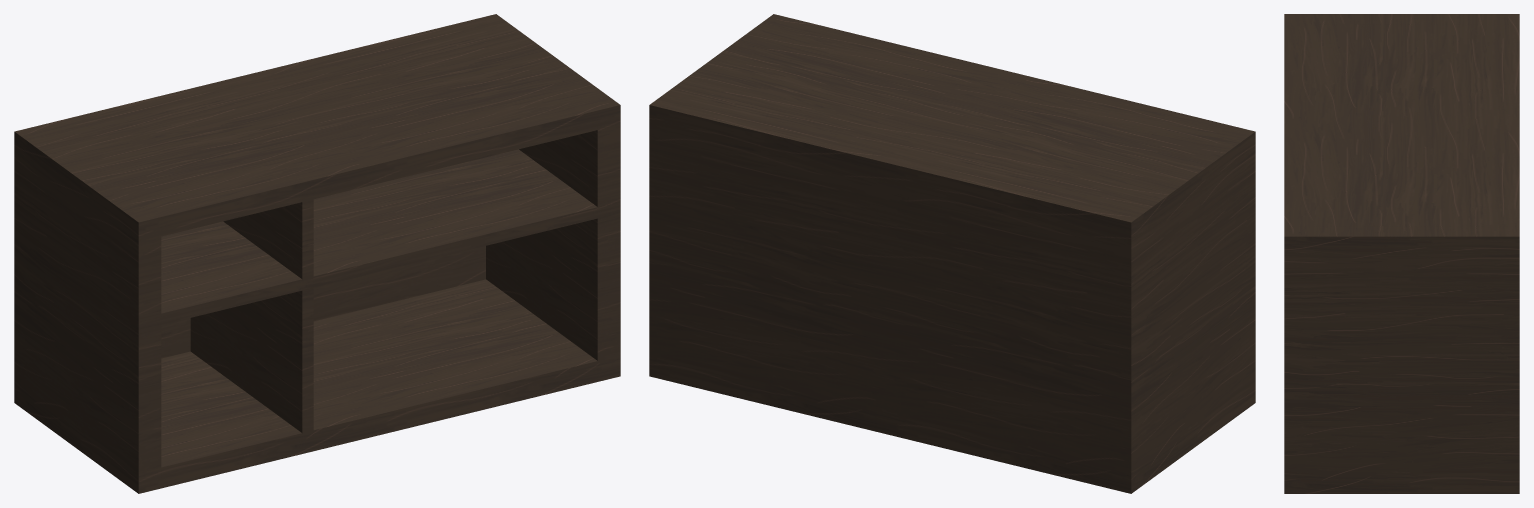
Rendered from tv_cabinet.FBX.
The picture shows the model from 3 angles, left to right: view 1: azimuth 30°, elevation 25°; view 2: azimuth 150°, elevation 25°; view 3: azimuth 270°, elevation 25°; orthographic projection. The views are drawn at different scales.
Parts seen in each view (by area): view 1: _cabinet; view 2: _cabinet; view 3: _cabinet.
Boxes of the visible parts, x1,y1,x2,y2 form: _cabinet: (14, 14, 620, 493); _cabinet: (649, 14, 1255, 493); _cabinet: (1284, 14, 1519, 493).
Size of the model in its own units: 1.94 by 1.04 by 0.866.
